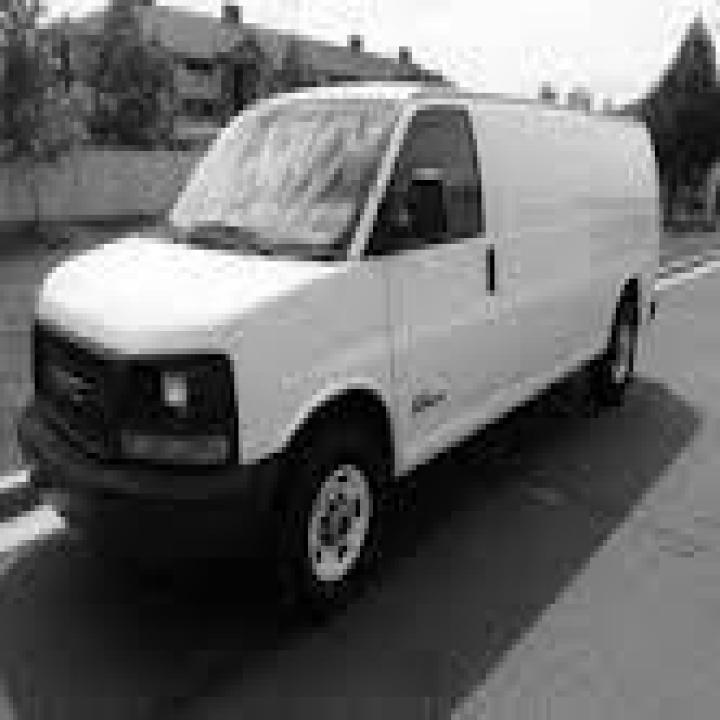car: (13, 76, 659, 616)
